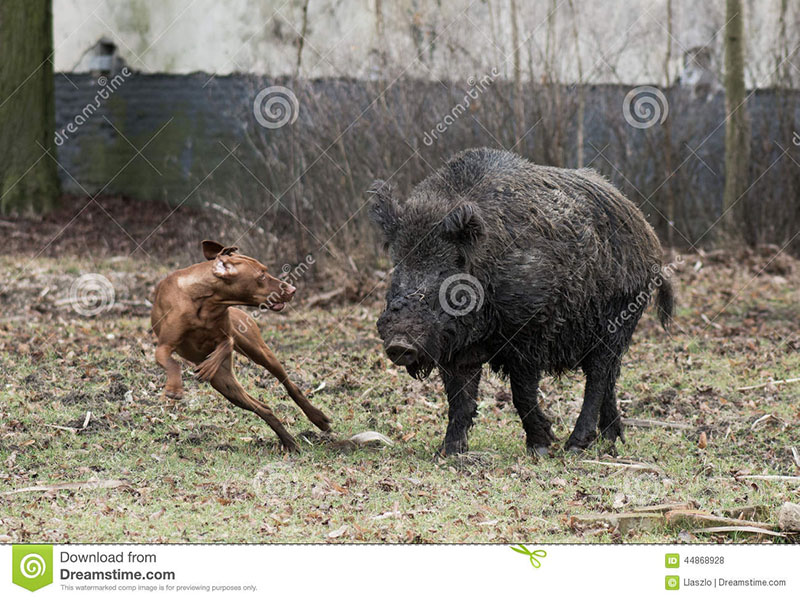cane da caccia: (145, 232, 338, 451)
cinghiale: (367, 141, 678, 473)
